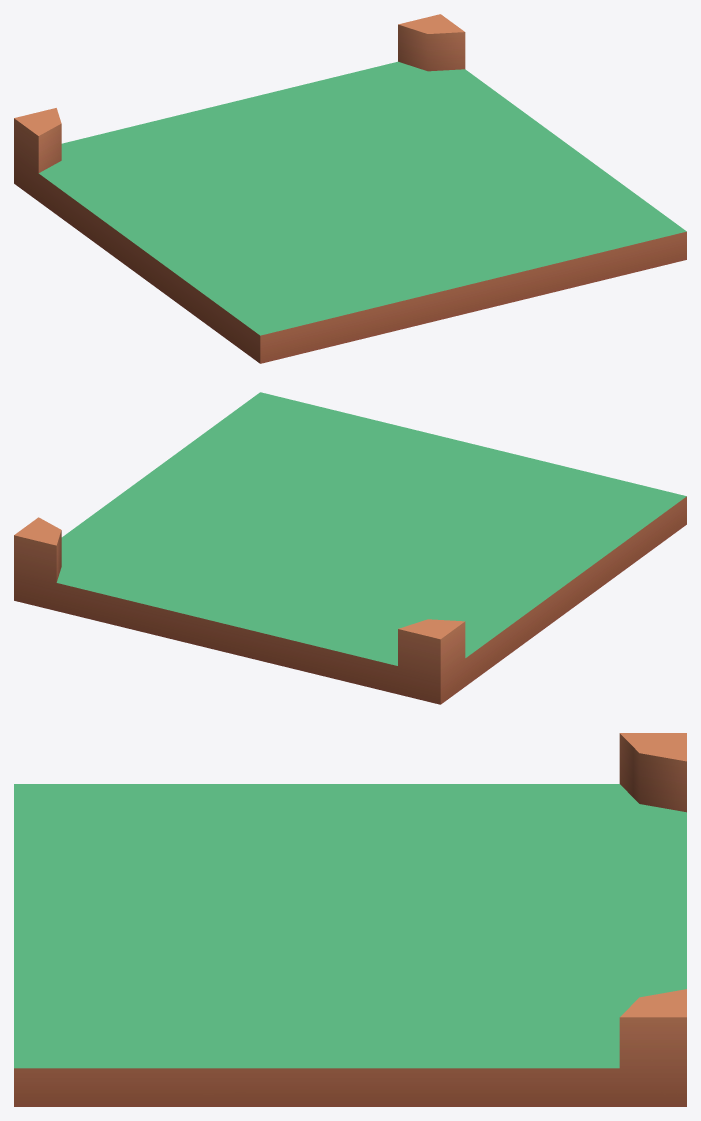
Rendered from walls-to-open.glb.
3 renders of one model, top to bottom at view 1: azimuth 30°, elevation 25°; view 2: azimuth 150°, elevation 25°; view 3: azimuth 270°, elevation 25°, orthographic. The views are drawn at different scales.
Visible parts, largest first — view 1: walls-to-open; view 2: walls-to-open; view 3: walls-to-open.
Part boxes in pixels (box(x1,y1,x2,y2)): walls-to-open: box(14, 14, 686, 363); walls-to-open: box(14, 392, 686, 704); walls-to-open: box(14, 733, 686, 1106).
Bounding box in the file's own units: 0.9999 × 0.1466 × 0.9999.
Materials: 1 (1 with a texture image).
